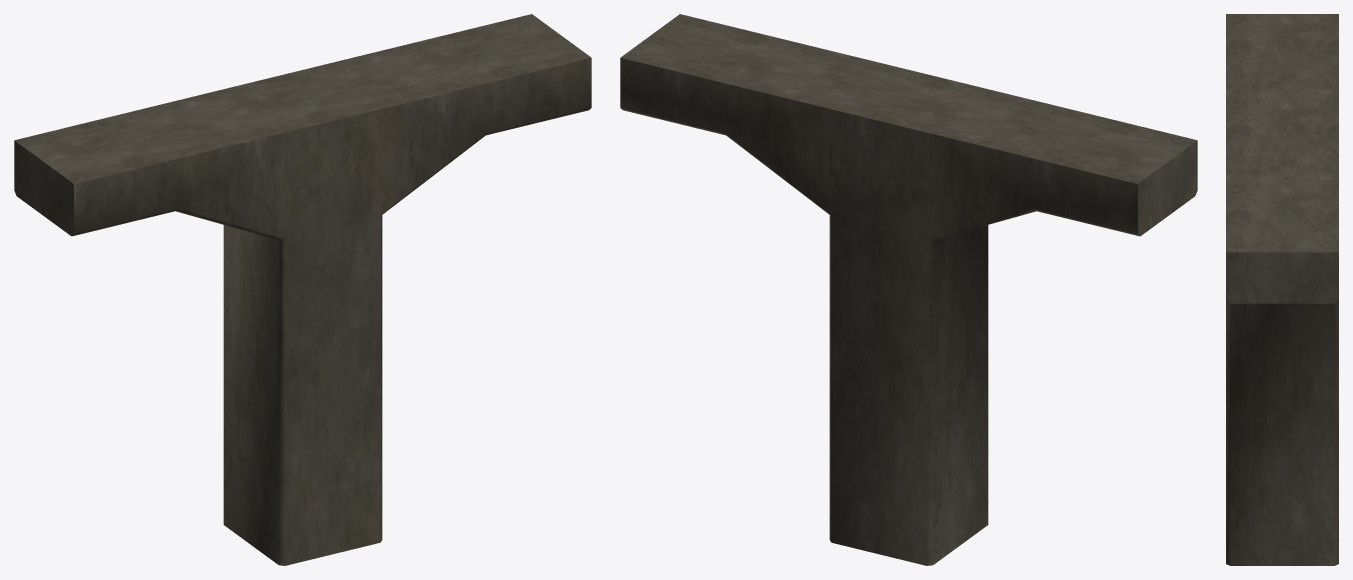
Rendered from RailsPost_3.fbx.
3 views of the same model, side by side, from view 1: azimuth 30°, elevation 25°; view 2: azimuth 150°, elevation 25°; view 3: azimuth 270°, elevation 25° (orthographic). The views are drawn at different scales.
Visible parts, largest first — view 1: RailsPost_3; view 2: RailsPost_3; view 3: RailsPost_3.
Part boxes in pixels (bbox=[...]): RailsPost_3: bbox=[14, 14, 591, 565]; RailsPost_3: bbox=[620, 14, 1197, 565]; RailsPost_3: bbox=[1226, 14, 1338, 565].
Size of the model in its own units: 5 by 4 by 1.
